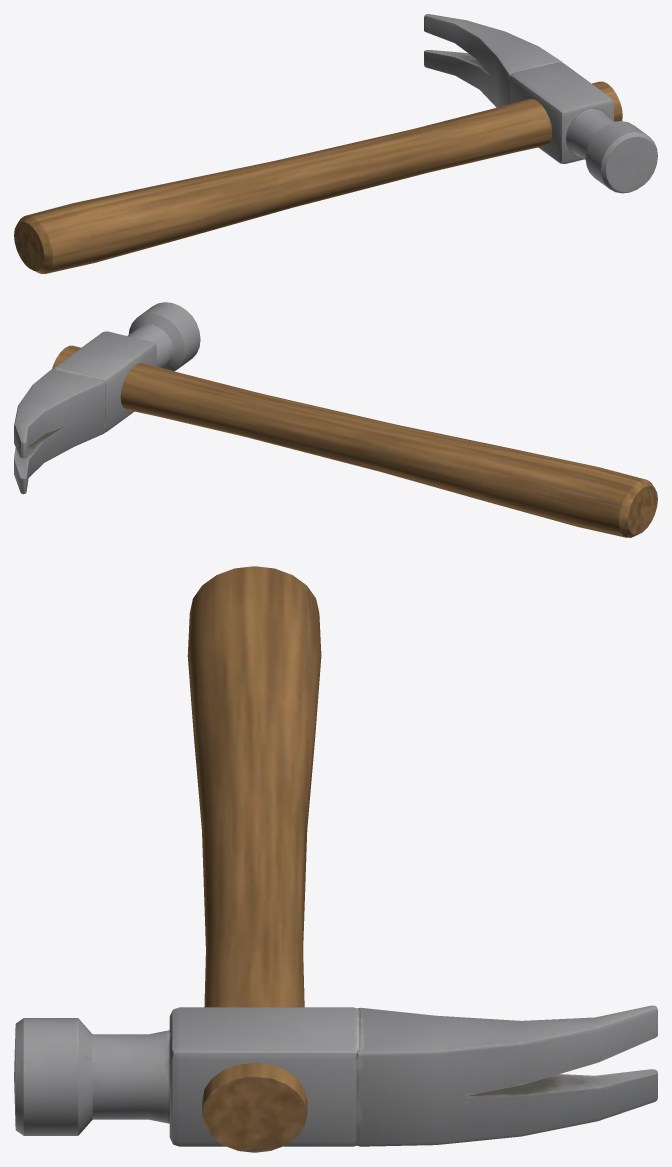
The model's file is martelo.glb.
3 views of the same model, one above another, from view 1: azimuth 30°, elevation 25°; view 2: azimuth 150°, elevation 25°; view 3: azimuth 270°, elevation 25° (orthographic). The views are drawn at different scales.
Parts seen in each view (by area): view 1: cabo, cabeca; view 2: cabo, cabeca; view 3: cabeca, cabo.
Boxes of the visible parts, bbox=[...] form: cabo: bbox=[14, 81, 622, 273]; cabeca: bbox=[424, 14, 657, 193]; cabo: bbox=[52, 345, 657, 537]; cabeca: bbox=[14, 302, 200, 494]; cabeca: bbox=[14, 1005, 657, 1146]; cabo: bbox=[187, 566, 321, 1152].
Size of the model in its own units: 0.296 by 0.0292 by 0.159.
Materials: 1 (1 with a texture image).
